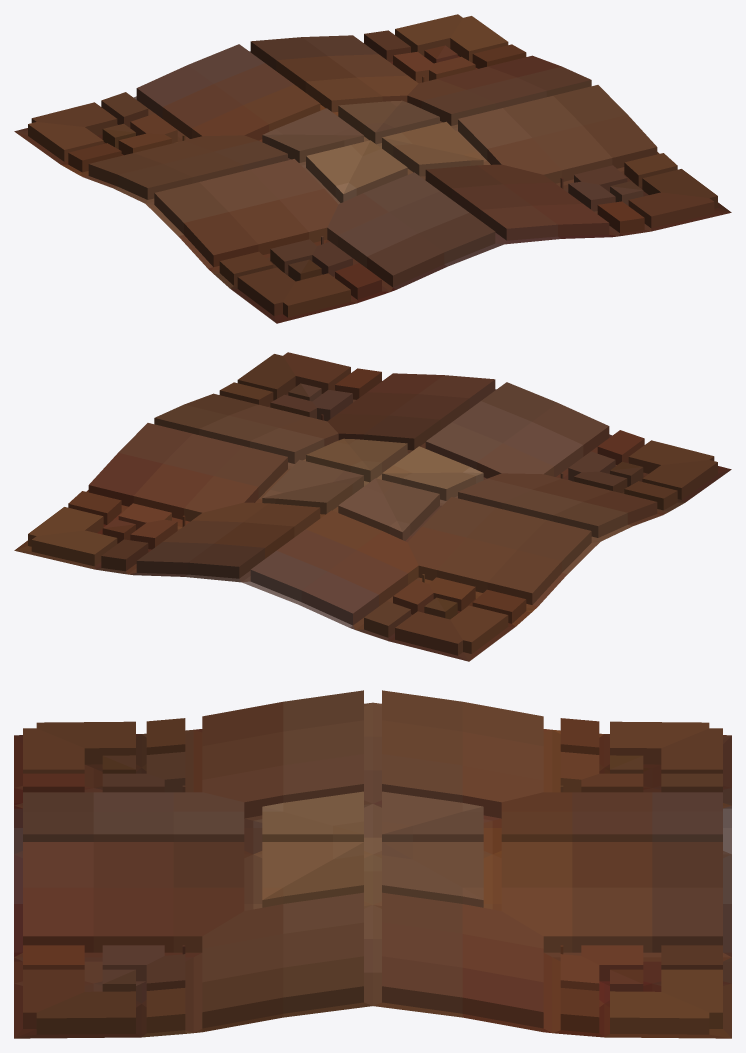
Rendered from Ceiling_HomeA-VaultedInt.fbx.
3 renders of one model, top to bottom at view 1: azimuth 30°, elevation 25°; view 2: azimuth 150°, elevation 25°; view 3: azimuth 270°, elevation 25°, orthographic. The views are drawn at different scales.
Visible parts, largest first — view 1: Ceiling_HomeA-VaultedInt; view 2: Ceiling_HomeA-VaultedInt; view 3: Ceiling_HomeA-VaultedInt.
Part boxes in pixels (x1,y1,x2,y2): Ceiling_HomeA-VaultedInt: (14,14,731,323); Ceiling_HomeA-VaultedInt: (14,352,731,661); Ceiling_HomeA-VaultedInt: (14,690,731,1038).
Bounding box in the file's own units: 600 × 44.85 × 600.
